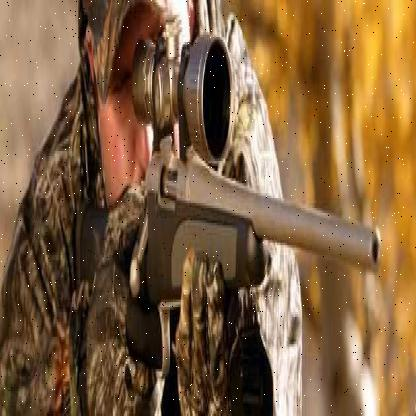rifle: (66, 40, 386, 347)
